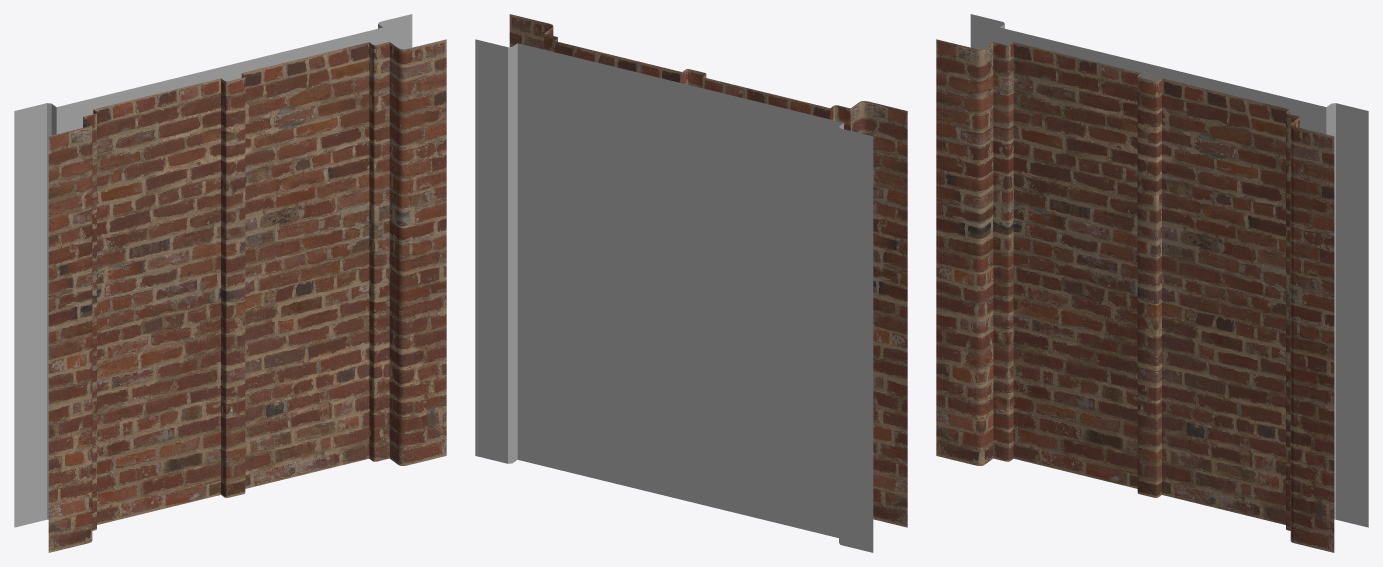
Rendered from SM_Wall_B_DualInterior.fbx.
The picture shows the model from 3 angles, left to right: view 1: azimuth 30°, elevation 25°; view 2: azimuth 150°, elevation 25°; view 3: azimuth 330°, elevation 25°; orthographic projection.
Parts seen in each view (by area): view 1: SM_Wall_B_DualInterior; view 2: SM_Wall_B_DualInterior; view 3: SM_Wall_B_DualInterior.
Boxes of the visible parts, x1=… form: SM_Wall_B_DualInterior: x1=14, y1=14, x2=446, y2=552; SM_Wall_B_DualInterior: x1=475, y1=14, x2=907, y2=552; SM_Wall_B_DualInterior: x1=936, y1=14, x2=1368, y2=552.
Size of the model in its own units: 700 by 105 by 700.
